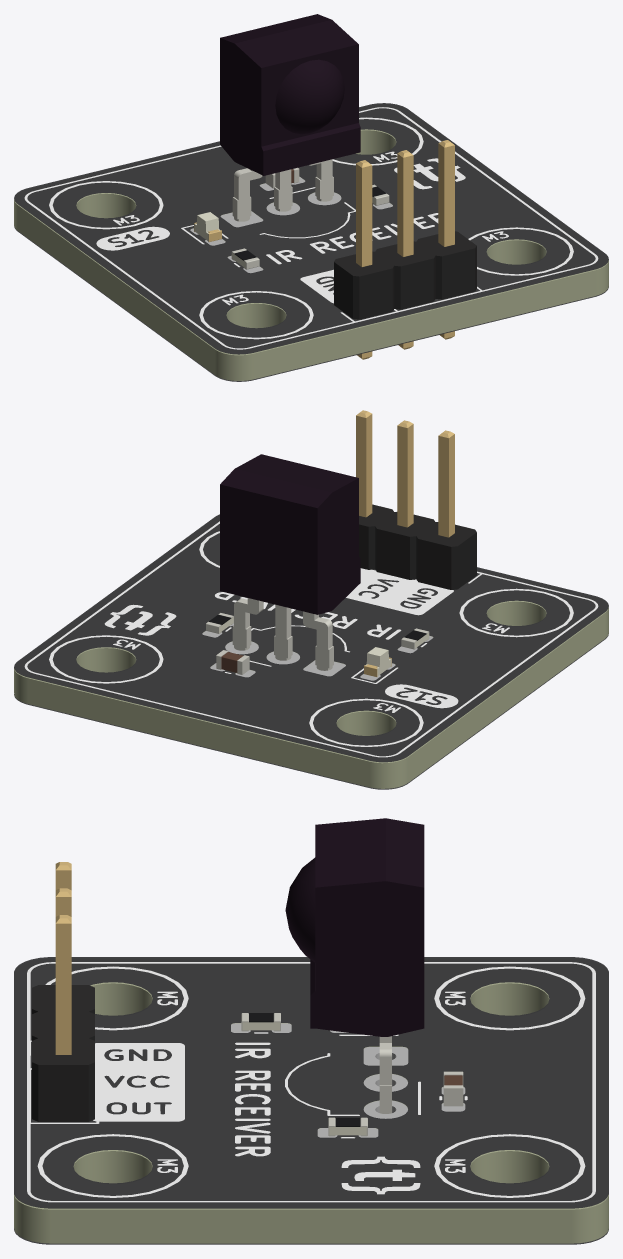
3 views of the same model, one above another, from view 1: azimuth 30°, elevation 25°; view 2: azimuth 150°, elevation 25°; view 3: azimuth 270°, elevation 25° (orthographic). The views are drawn at different scales.
Parts seen in each view (by area): view 1: =>[0:1:1:10], U1, =>[0:1:1:12], J1, =>[0:1:1:8], =>[0:1:1:7], =>[0:1:1:11], D1; view 2: =>[0:1:1:10], U1, =>[0:1:1:12], J1, =>[0:1:1:8], =>[0:1:1:7], =>[0:1:1:11], C1, D1; view 3: =>[0:1:1:10], =>[0:1:1:12], U1, =>[0:1:1:8], J1, =>[0:1:1:7], =>[0:1:1:11], R1, C1, R2.
Boxes of the visible parts, x1,y1,x2,y2 form: =>[0:1:1:10]: (14, 103, 608, 354); U1: (220, 14, 360, 221); =>[0:1:1:12]: (14, 129, 608, 380); J1: (334, 140, 476, 359); =>[0:1:1:8]: (24, 107, 598, 349); =>[0:1:1:7]: (190, 177, 392, 273); =>[0:1:1:11]: (14, 226, 608, 381); D1: (194, 212, 221, 241); =>[0:1:1:10]: (14, 514, 608, 762); U1: (220, 454, 360, 670); =>[0:1:1:12]: (14, 600, 608, 788); J1: (356, 410, 476, 589); =>[0:1:1:8]: (24, 521, 598, 757); =>[0:1:1:7]: (202, 623, 433, 680); =>[0:1:1:11]: (14, 634, 608, 789); C1: (216, 650, 249, 674); D1: (364, 647, 391, 676); =>[0:1:1:10]: (14, 957, 608, 1208); =>[0:1:1:12]: (14, 982, 608, 1243); U1: (285, 818, 424, 1113); =>[0:1:1:8]: (27, 962, 595, 1202); J1: (32, 862, 94, 1121); =>[0:1:1:7]: (231, 1023, 465, 1137); =>[0:1:1:11]: (14, 1228, 608, 1244); R1: (328, 1117, 367, 1136); C1: (443, 1071, 463, 1106); R2: (241, 1013, 280, 1031).
Bounding box in the file's own units: 0.024 × 0.0133 × 0.024.
